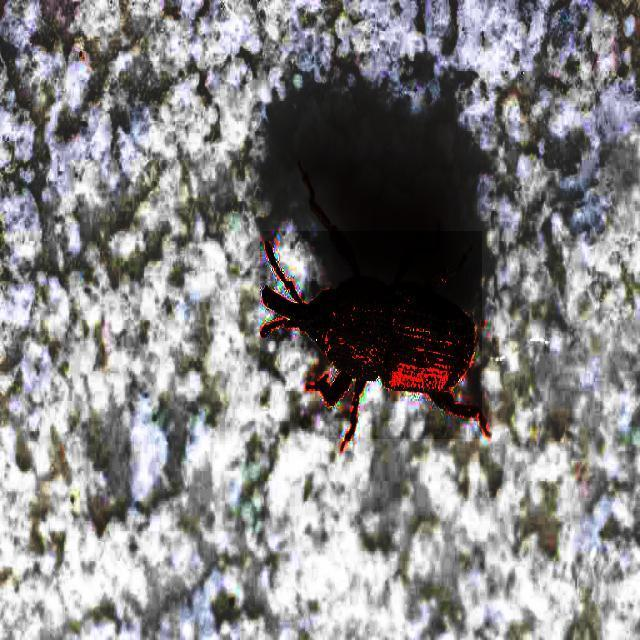rice-bug: (260, 231, 482, 439)
